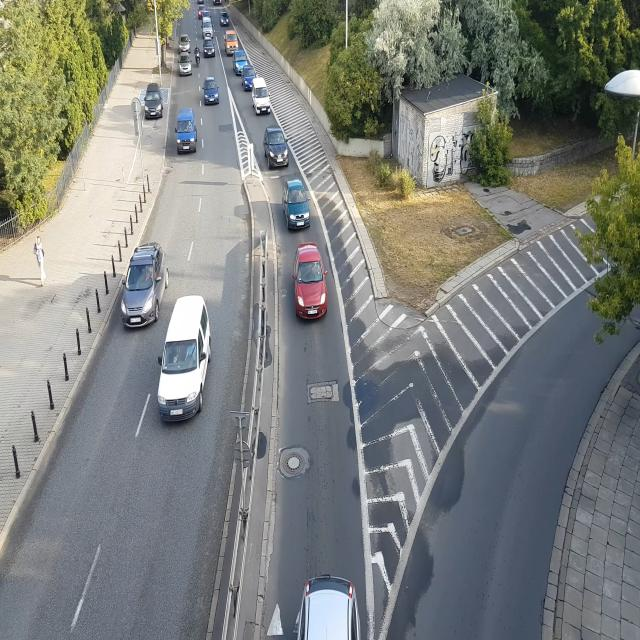car: (158, 296, 212, 426), (296, 563, 365, 640), (121, 245, 168, 327), (294, 245, 329, 320), (284, 179, 310, 231), (263, 124, 289, 168), (176, 108, 198, 155), (142, 86, 164, 120), (252, 81, 273, 115), (201, 78, 219, 106), (232, 51, 250, 74), (178, 33, 192, 53), (192, 41, 201, 70), (201, 17, 214, 37), (225, 35, 239, 53), (179, 58, 193, 75), (202, 42, 216, 58), (196, 3, 208, 19), (221, 14, 232, 27), (212, 0, 226, 10)
